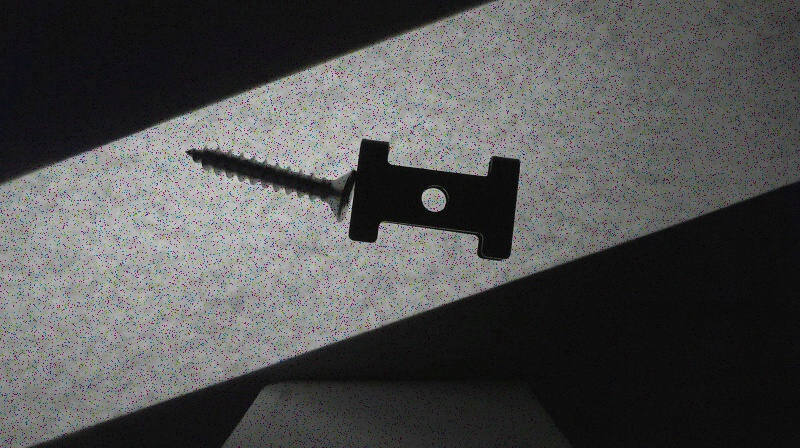O002: (348, 133, 523, 262)
S001: (182, 143, 359, 223)
